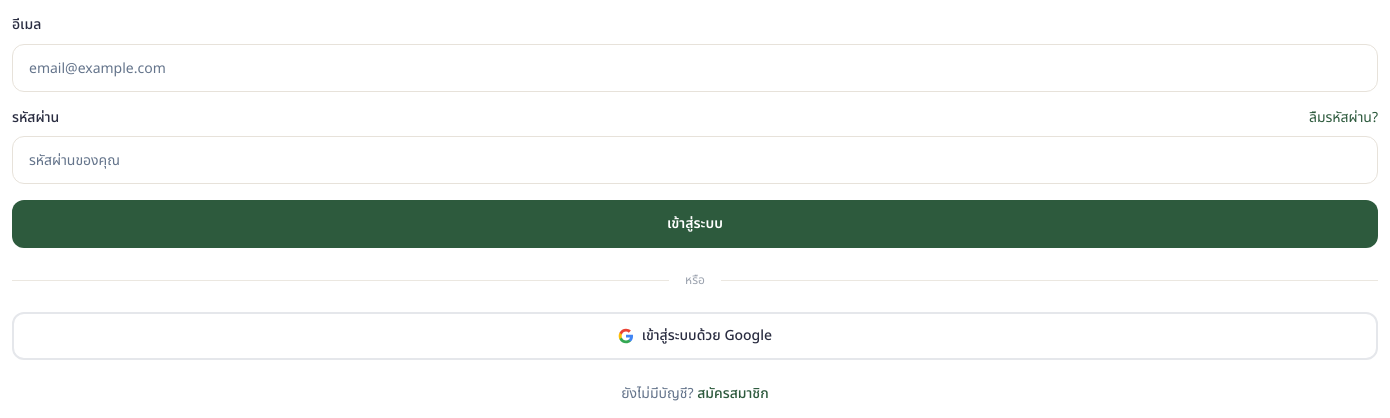
it: LoginForm › Form Submission › submit button is disabled while loading
The image size is (1390, 418).
In the field labelled "อีเมล": (695, 68) [12,44,1378,92], type "test@example.com"
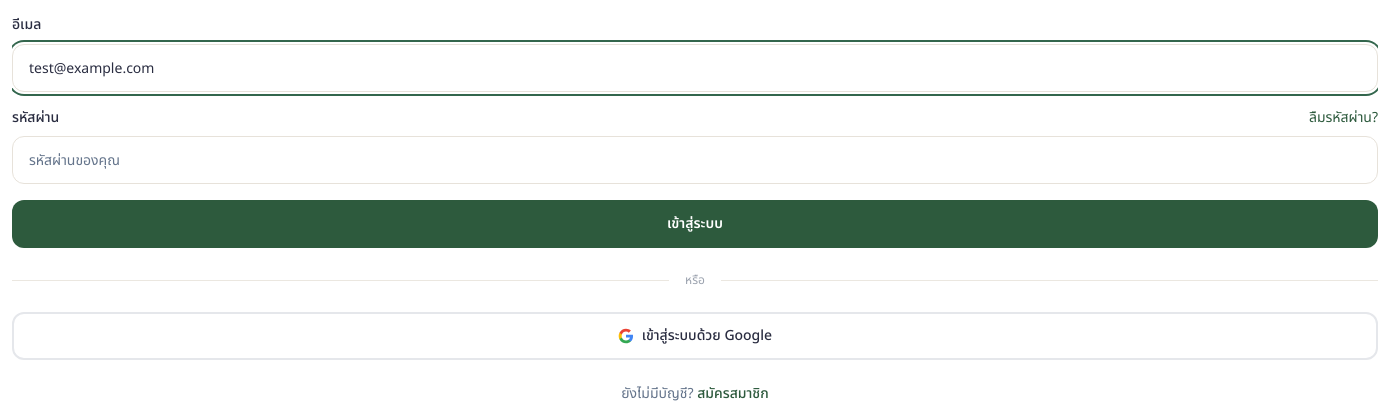
In the password field labelled "รหัสผ่าน": (695, 160) [12,136,1378,184], type "password123"
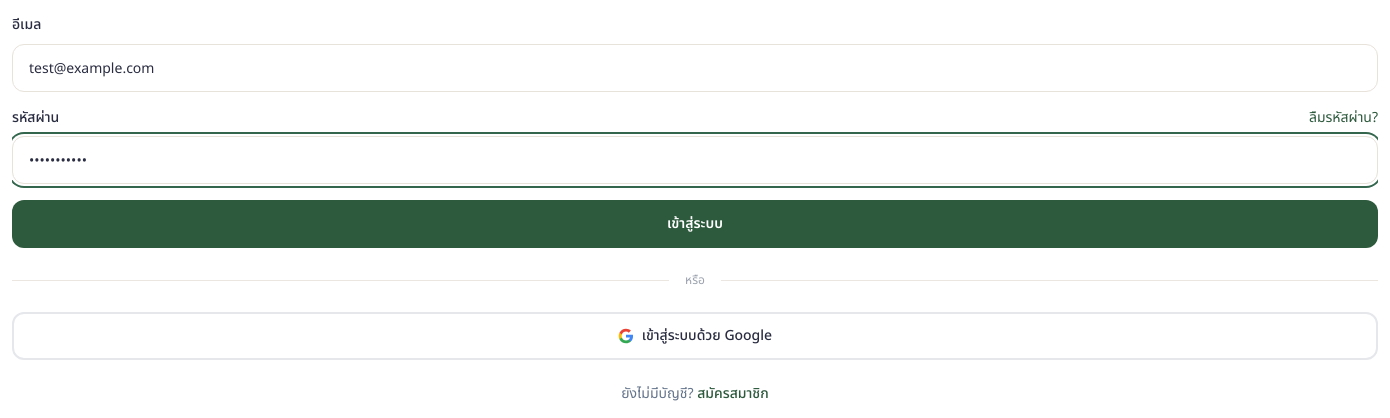
Click the button "เข้าสู่ระบบ": (695, 224) [12,200,1378,248]
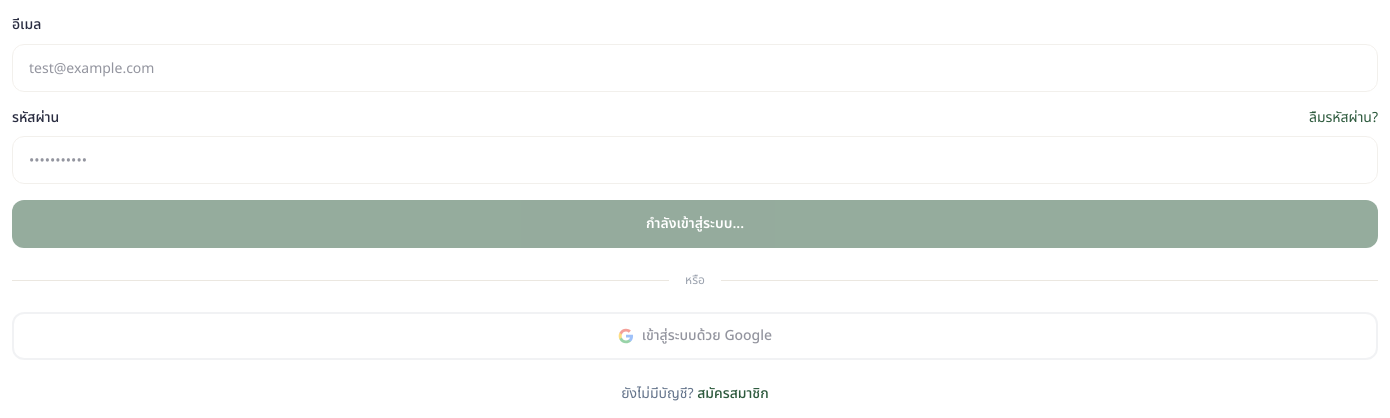
Expected: the button "กำลังเข้าสู่ระบบ..." is disabled, [12,200,1378,248]
Expected: the button "กำลังเข้าสู่ระบบ..." is shown, [12,200,1378,248]
